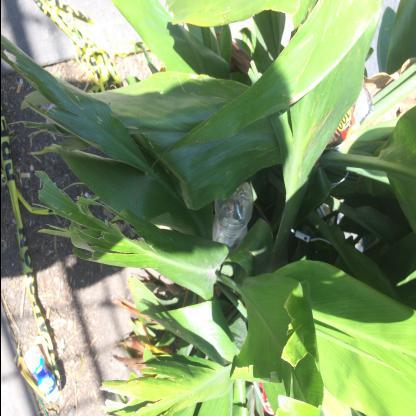plastik: (210, 182, 254, 256), (24, 346, 60, 404)
